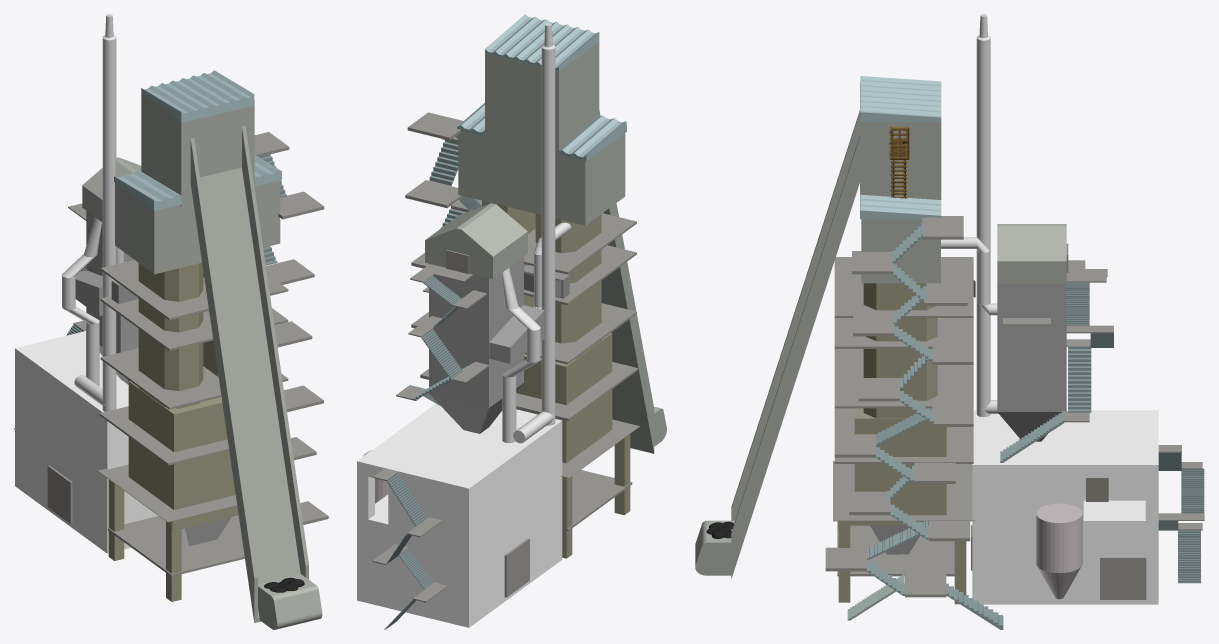
File: zvd.glb
3 views of the same model, side by side, from view 1: azimuth 30°, elevation 25°; view 2: azimuth 150°, elevation 25°; view 3: azimuth 270°, elevation 25° (orthographic).
Visible parts, largest first — view 1: SKIPPath, Куб.008, Cube.006, Cube.020, Cube.019, Куб.018, pipe2, Cube.008, Cube.003, SKIPObj, Cube.014, Cube.018 (+19 smaller); view 2: Куб.008, Cube.019, Cube.049, Cube.020, pipe2, Куб.006, SKIPPath, Cube.006, Куб.018, Cube.003, pipe1, Cube.018 (+21 smaller); view 3: Куб.008, Cube.049, SKIPPath, Cube.006, Куб.016, pipe2, Cube.020, Куб.006, Cube.014, Cyl1, Cube.003, Cube.019 (+30 smaller).
Boxes of the visible parts, x1,y1,x2,y2 form: SKIPPath: (190,125,308,622); Куб.008: (15,331,158,553); Cube.006: (128,381,235,509); Cube.020: (141,93,254,206); Cube.019: (115,180,280,274); Куб.018: (138,263,203,408); pipe2: (102,14,116,411); Cube.008: (108,515,244,576); Cube.003: (141,70,254,122); SKIPObj: (258,573,322,629); Cube.014: (100,348,288,409); Cube.018: (100,260,288,320); Куб.008: (357,404,562,627); Cube.019: (458,130,625,225); Cube.049: (429,257,523,433); Cube.020: (485,42,599,157); pipe2: (541,23,555,425); Куб.006: (425,203,527,279); SKIPPath: (599,110,654,453); Cube.006: (516,333,612,463); Куб.018: (535,213,601,359); Cube.003: (485,14,599,71); pipe1: (502,267,540,443); Cube.018: (524,213,636,274); Куб.008: (972,410,1158,604); Cube.049: (997,283,1066,441); SKIPPath: (731,110,859,578); Cube.006: (854,408,946,515); Куб.016: (863,283,937,418); pipe2: (976,14,990,417); Cube.020: (860,122,941,199); Куб.006: (997,224,1068,283); Cube.014: (834,349,973,408); Cyl1: (1036,503,1082,599); Cube.003: (860,76,941,122); Cube.019: (861,219,940,283).
Size of what is drawn, in the model's own units: 17.03 by 51.98 by 43.97.
Materials: 92 (4 with a texture image).
